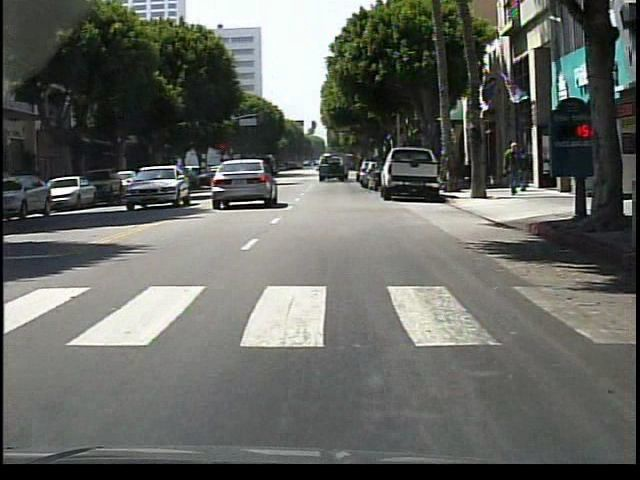person: (504, 142, 525, 199), (517, 148, 533, 193), (225, 158, 238, 202)
